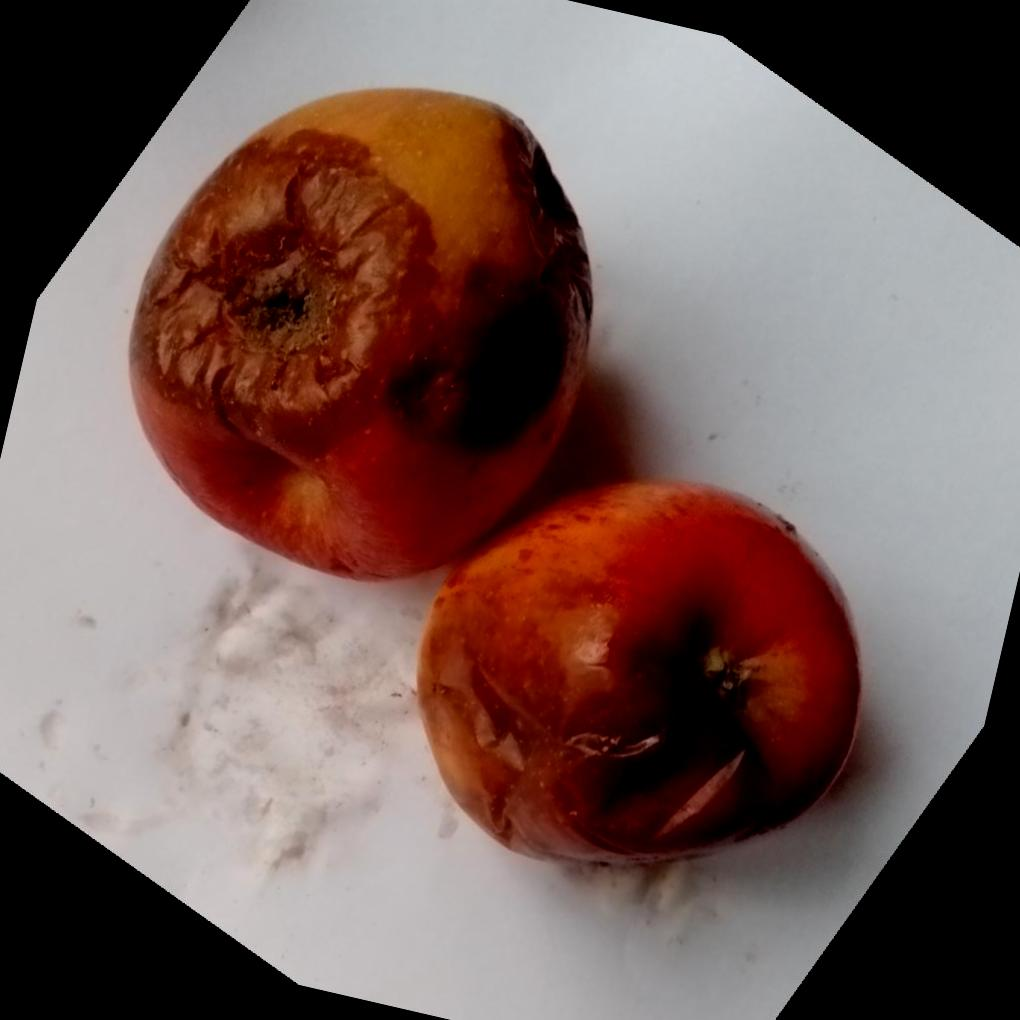FreshOrange: (123, 85, 860, 869)
